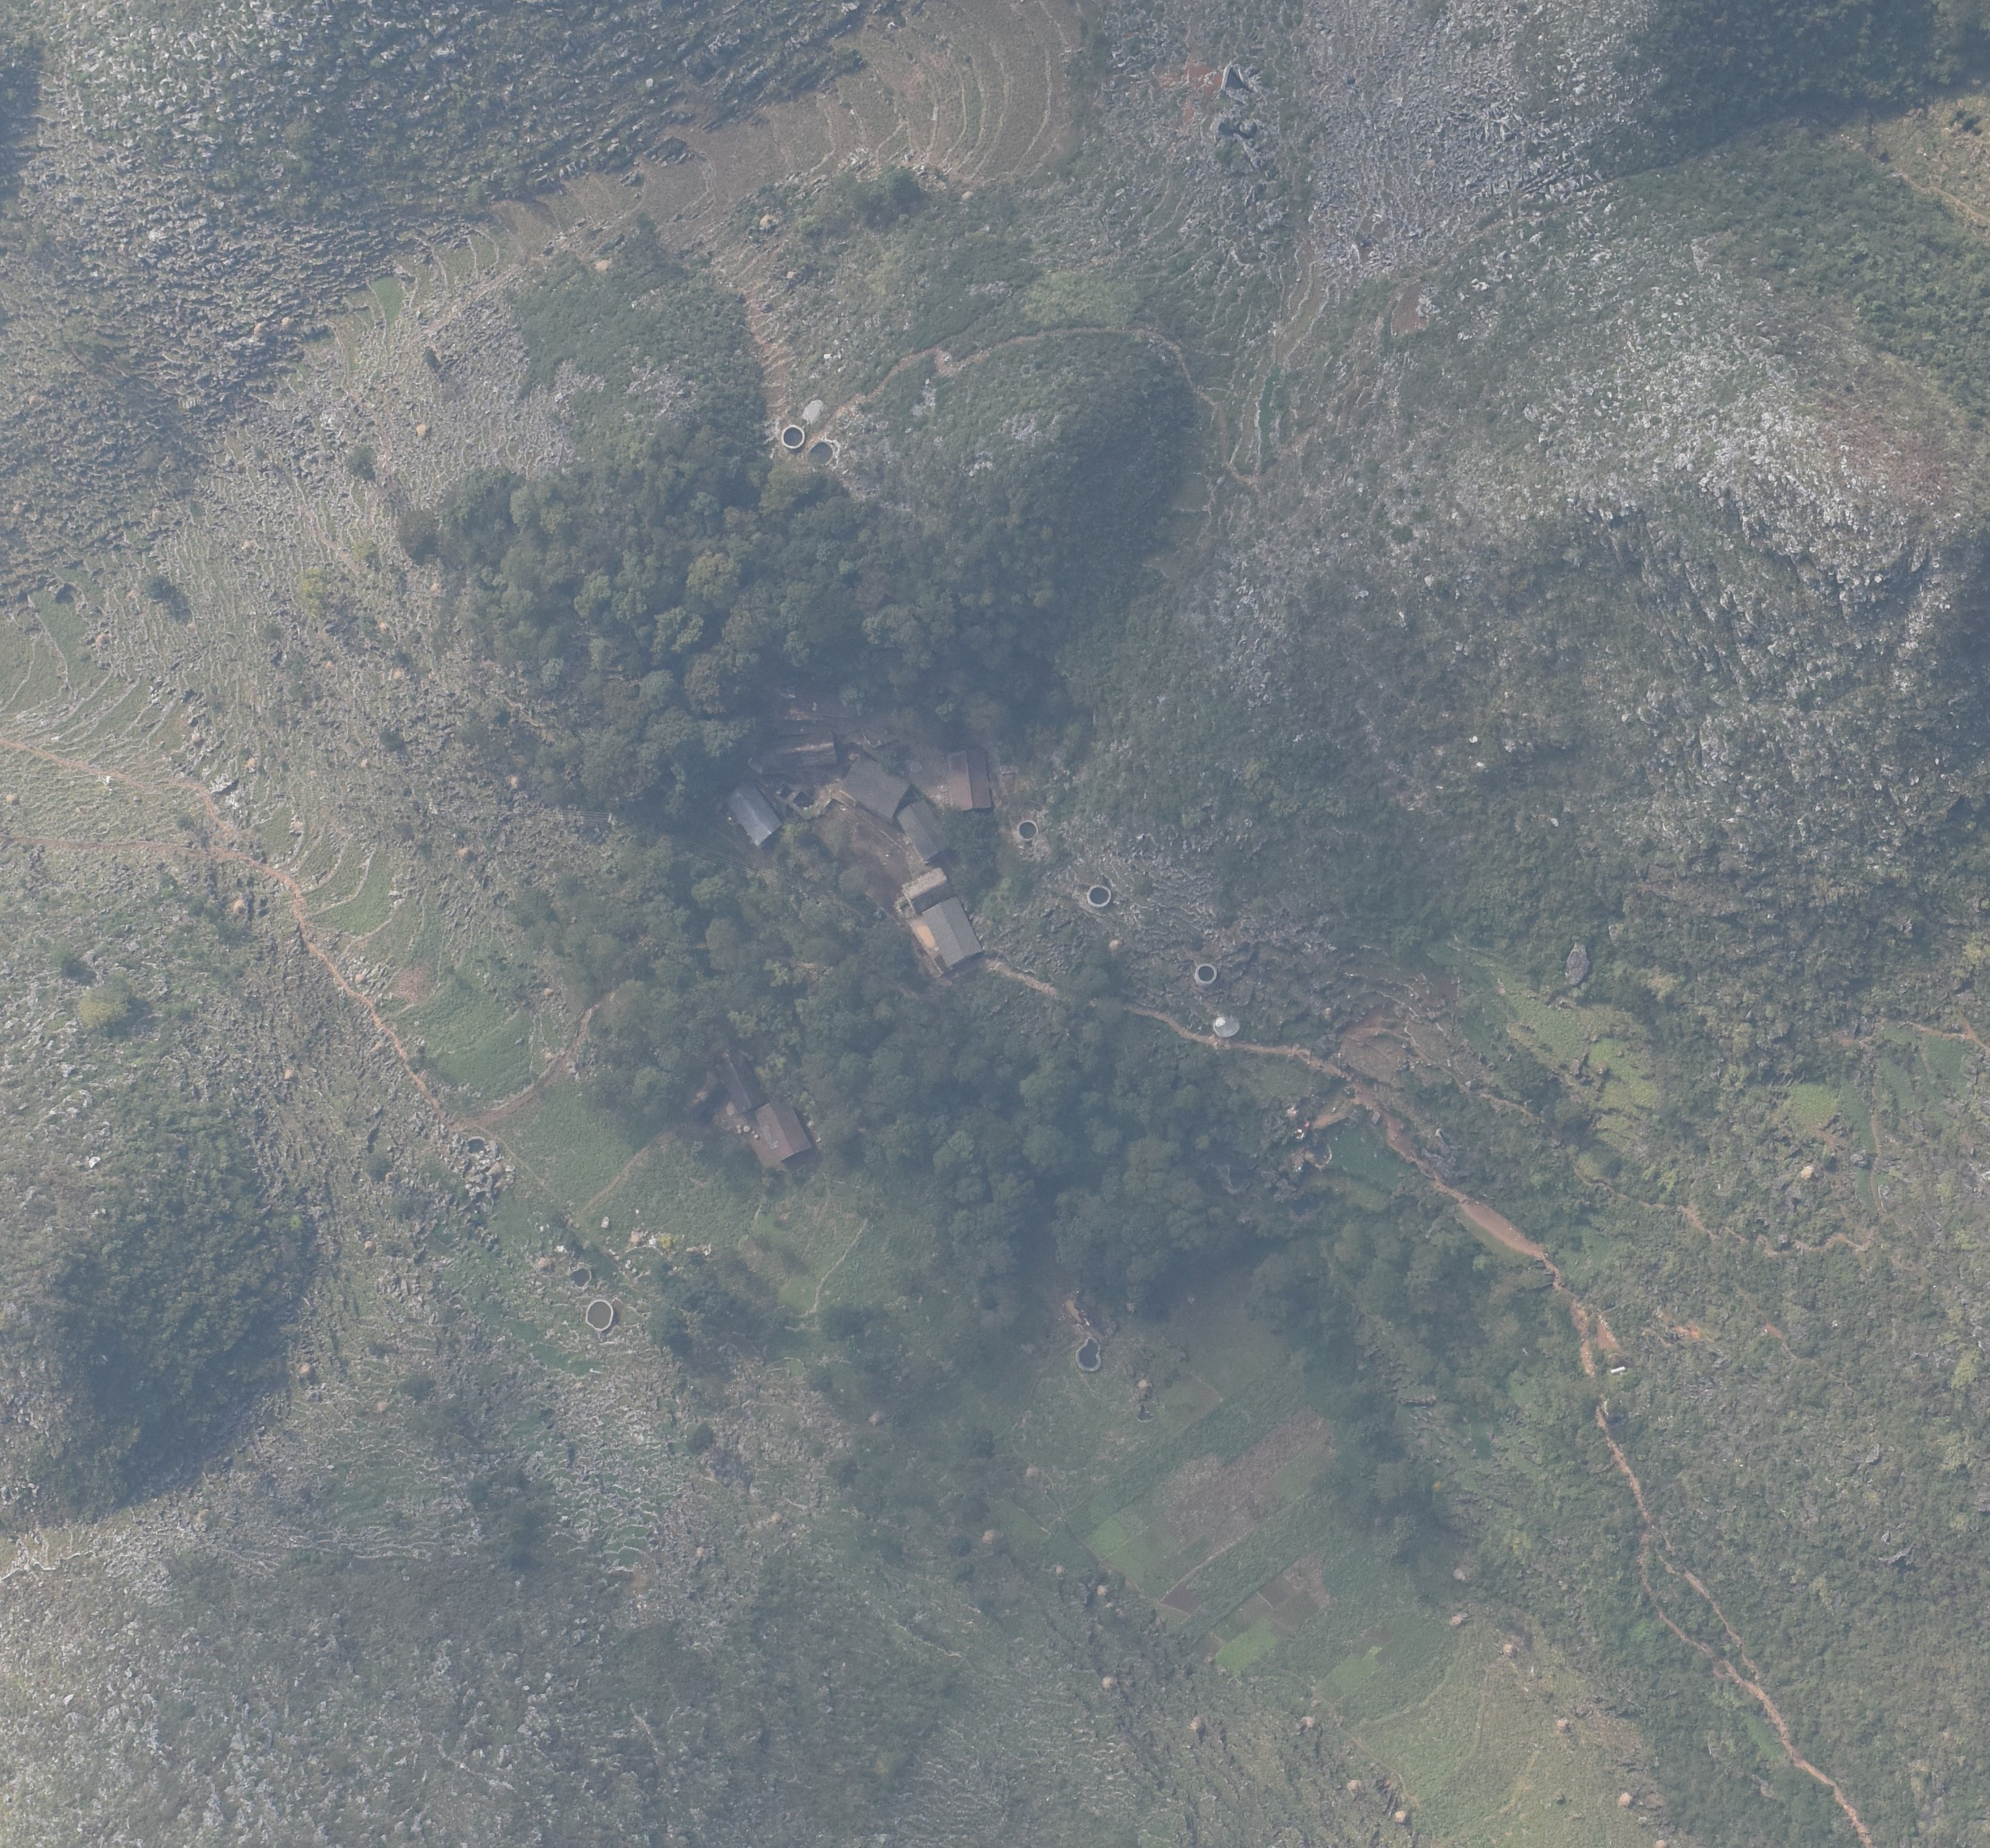building: (841, 754, 911, 823), (923, 896, 984, 967), (897, 798, 954, 862), (726, 781, 781, 845), (760, 1098, 812, 1162), (948, 750, 993, 810), (719, 1055, 765, 1114), (763, 733, 836, 768), (901, 866, 953, 913)
well: (1210, 1010, 1247, 1041), (780, 423, 809, 453), (1086, 880, 1114, 910), (1192, 962, 1223, 988), (1018, 818, 1040, 842)
